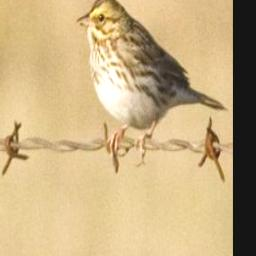Sparrow: (74, 0, 227, 166)
